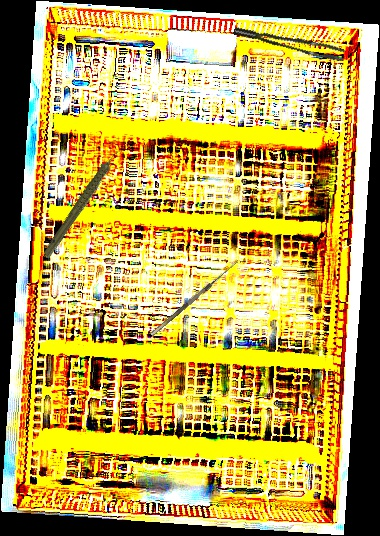Handpiece: (25, 147, 143, 259)
Hook Surgical: (146, 255, 240, 337)
Tissue Forceps: (232, 12, 347, 72)
